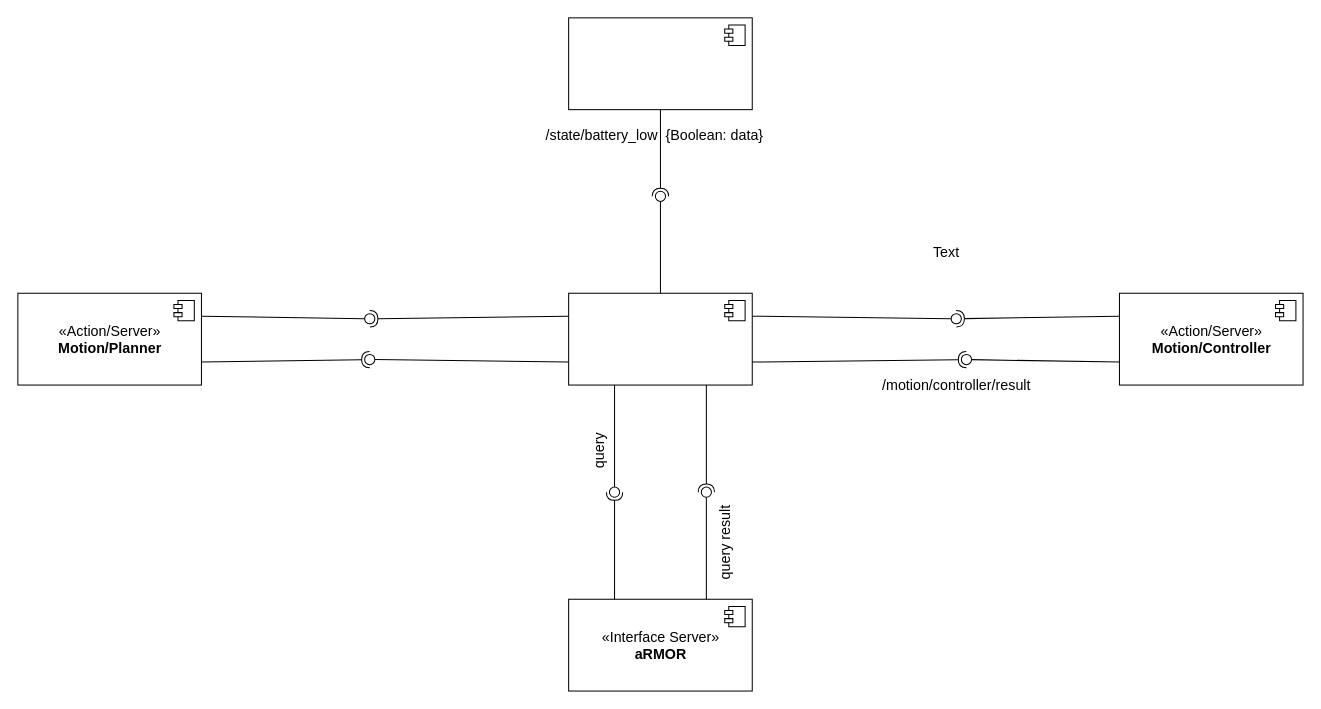
Image size: 1321x709. Some labels were removed from this diagram. Here are the shapes that lost their labels. From the top down, the centre of each, then its label:
At pixel 660 63: "«Node/Server» Robot-State".
At pixel 660 338: "«Node/FSM» FinateState_Machine".
